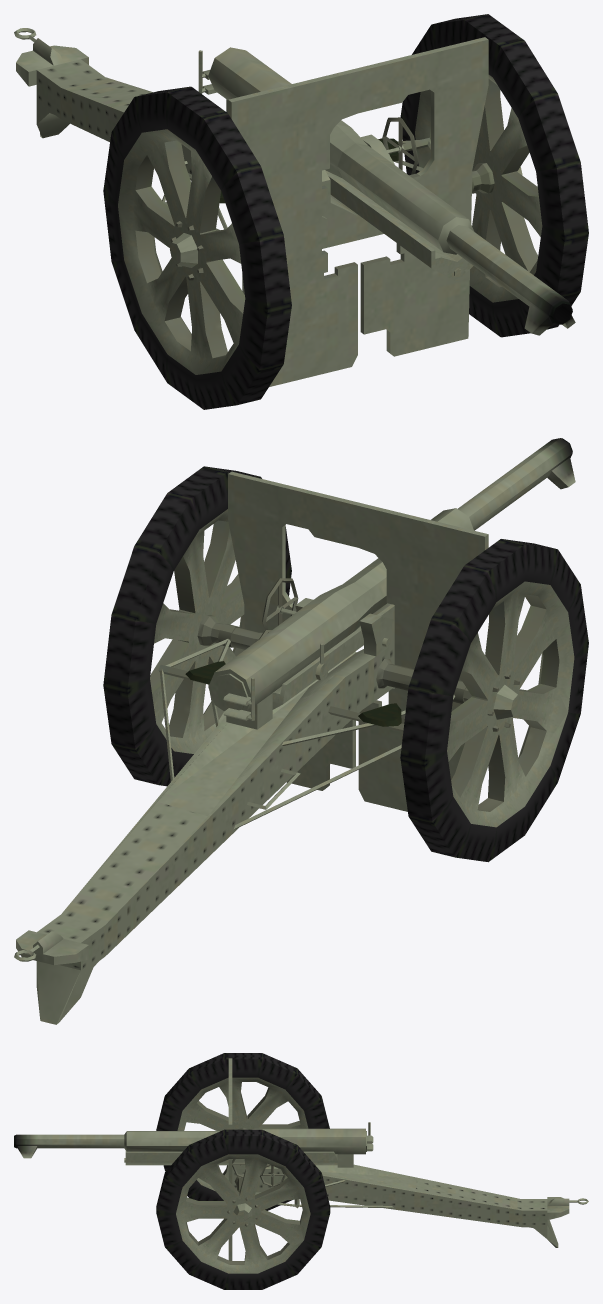
File: FRA75mmMle1897.dae
3 views of the same model, one above another, from view 1: azimuth 30°, elevation 25°; view 2: azimuth 150°, elevation 25°; view 3: azimuth 270°, elevation 25° (orthographic). The views are drawn at different scales.
Visible parts, largest first — view 1: wheels, carriage, barrel, sleeve; view 2: wheels, carriage, barrel, sleeve; view 3: wheels, carriage, barrel, sleeve.
Part boxes in pixels (x1=…): wheels: x1=103, y1=14, x2=588, y2=409; carriage: x1=14, y1=28, x2=494, y2=386; barrel: x1=198, y1=47, x2=575, y2=335; sleeve: x1=325, y1=170, x2=473, y2=281; wheels: x1=103, y1=466, x2=588, y2=862; carriage: x1=14, y1=471, x2=488, y2=1024; barrel: x1=208, y1=438, x2=575, y2=729; sleeve: x1=272, y1=603, x2=394, y2=709; wheels: x1=156, y1=1053, x2=330, y2=1289; carriage: x1=228, y1=1058, x2=588, y2=1260; barrel: x1=14, y1=1122, x2=373, y2=1167; sleeve: x1=124, y1=1151, x2=337, y2=1167.
Bounding box in the file's own units: 14.36 × 39.61 × 11.93.
1 material, 1 textured.
